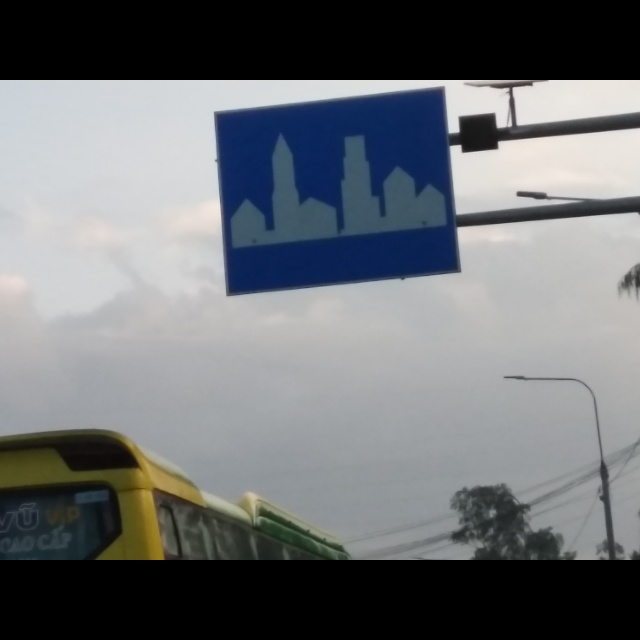Khu đông dân cư: (210, 87, 463, 300)
